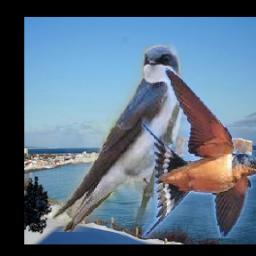Swallow: (53, 44, 184, 232), (143, 68, 256, 239)
